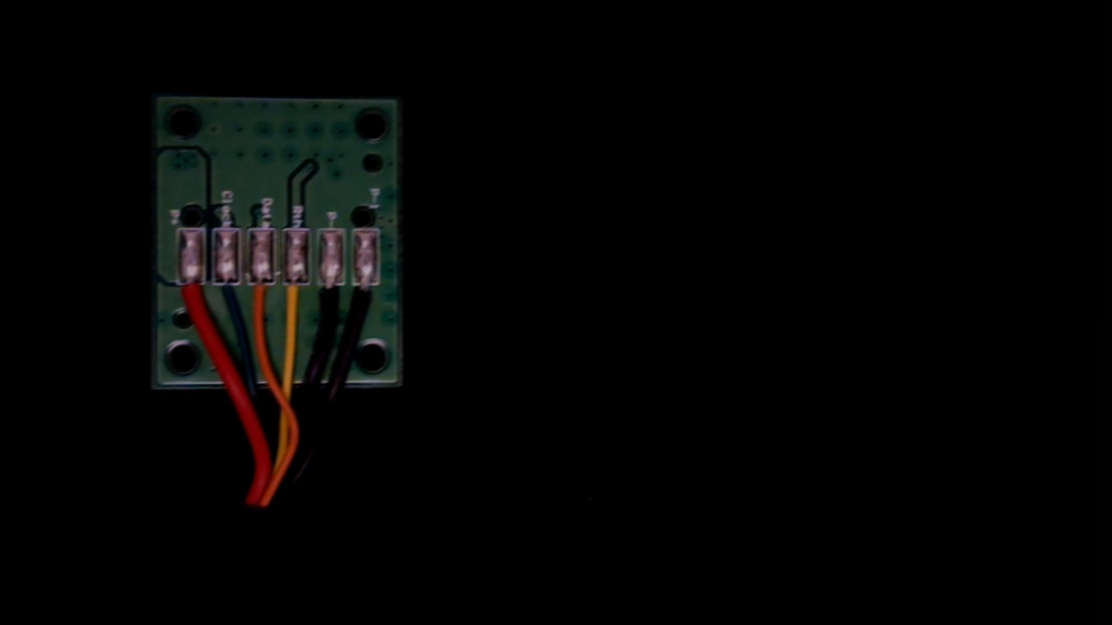Black: (317, 270, 342, 325)
Black1: (352, 271, 380, 322)
Green: (213, 270, 243, 317)
Orange: (249, 269, 275, 321)
Red: (176, 271, 206, 321)
Yellow: (281, 270, 310, 326)
